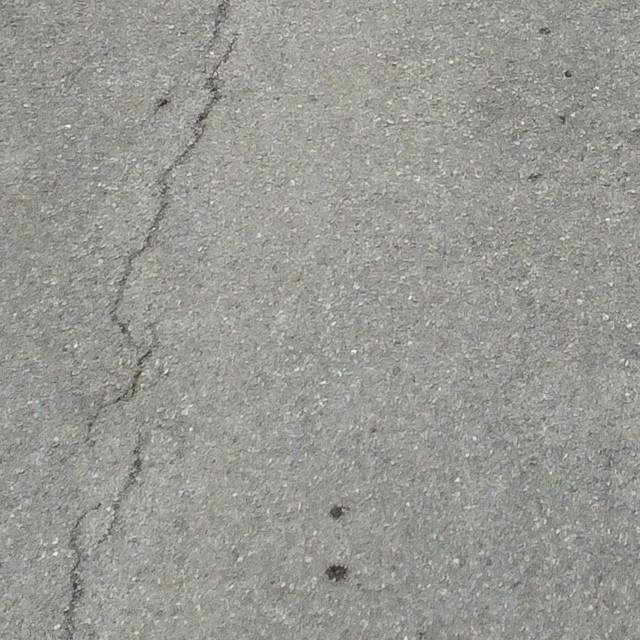LongitudinalCrack: (83, 1, 240, 436), (64, 431, 149, 640)
